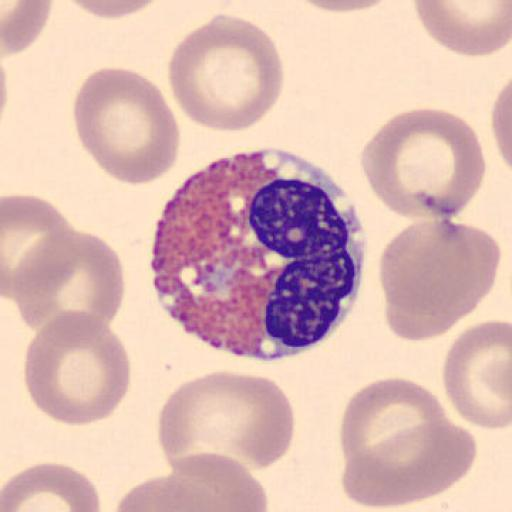RBC: (338, 376, 476, 501), (376, 218, 502, 343), (156, 370, 296, 476), (358, 106, 488, 220), (165, 11, 286, 133), (71, 65, 181, 187), (22, 308, 132, 428), (339, 416, 479, 508), (12, 228, 127, 333), (338, 376, 454, 476), (1, 192, 77, 302), (442, 319, 512, 431), (164, 450, 270, 512), (413, 0, 511, 58), (2, 460, 102, 512), (113, 472, 221, 512), (1, 0, 53, 56), (490, 75, 512, 182), (64, 0, 166, 20), (490, 80, 511, 164), (290, 0, 400, 14)
WBC: (146, 155, 367, 361)
